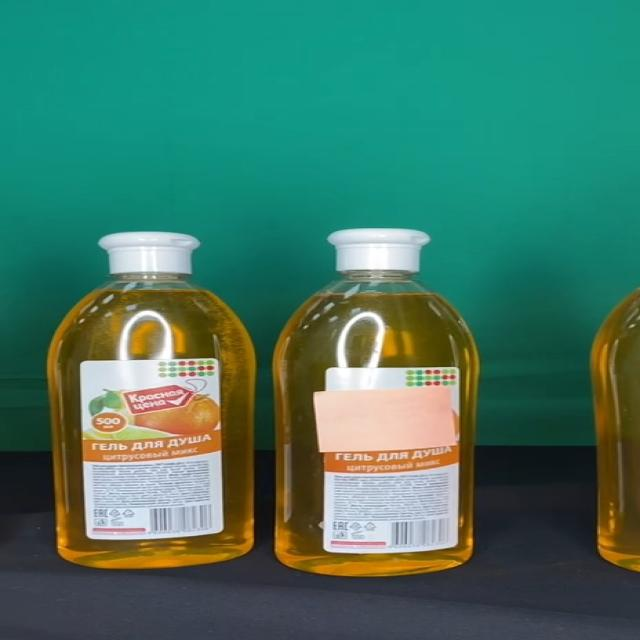Bottle: (274, 229, 481, 577), (48, 231, 255, 568)
Cap: (326, 229, 429, 272), (97, 232, 200, 274)
